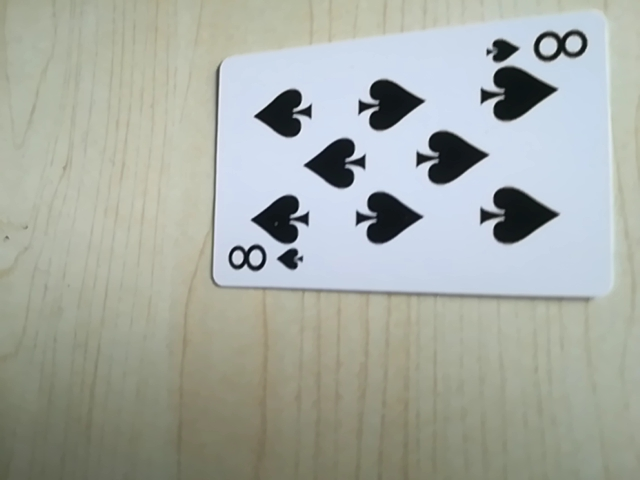ht 8: (484, 20, 594, 67), (222, 239, 306, 282)
